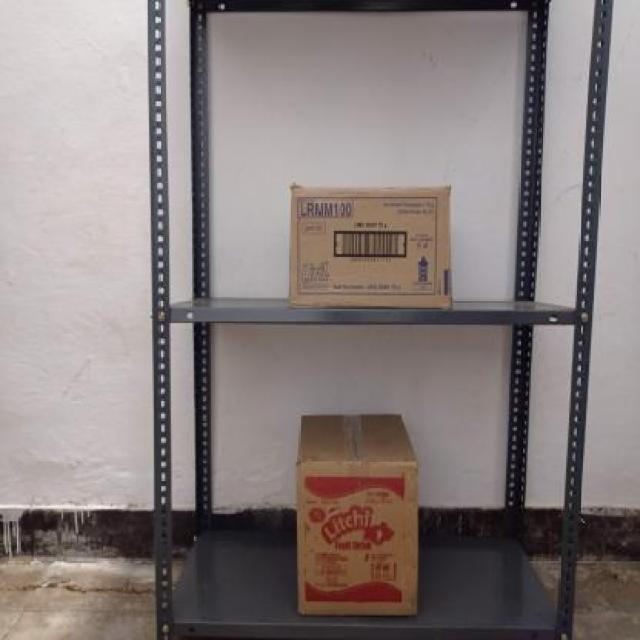box: (290, 185, 453, 310), (295, 461, 420, 614)
